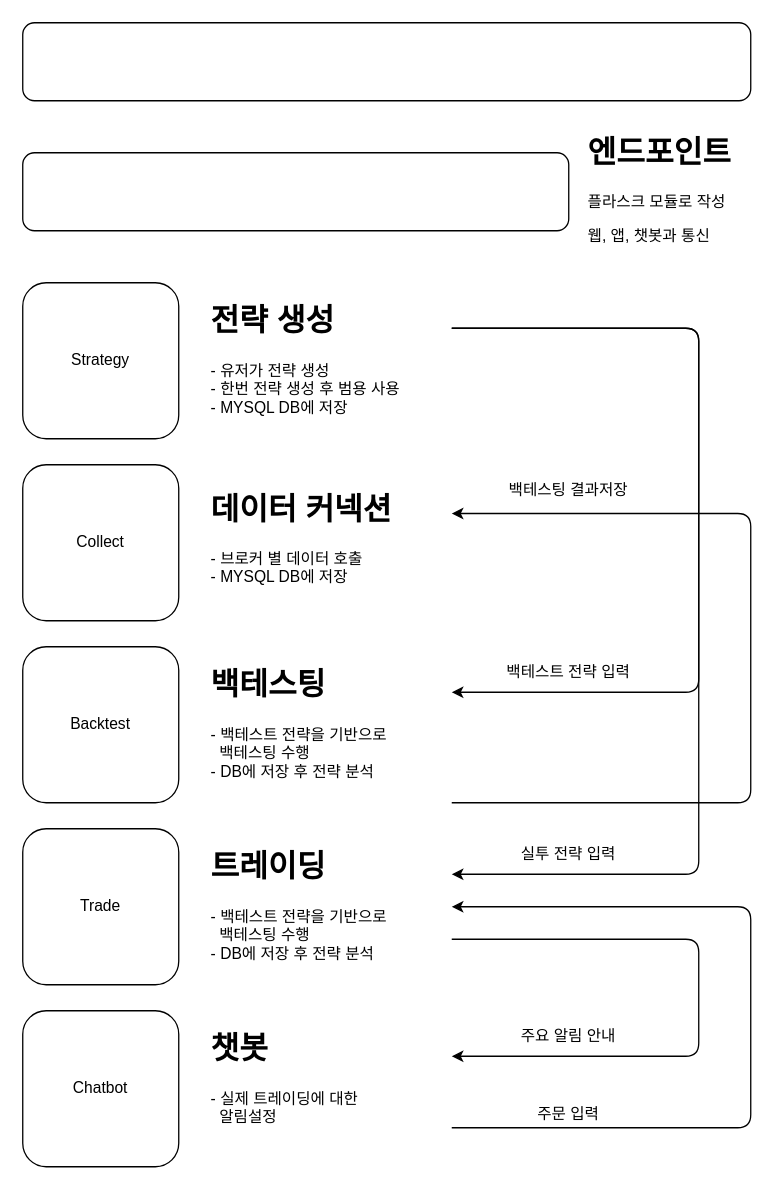
Image size: 784x1190. Some labels were removed from this diagram. The shapes that lost their labels are listed below. From the top down, each one's centre as x and y in pixels, then its label:
At pixel 386 61: "USER".
At pixel 295 191: "Endpoint".
